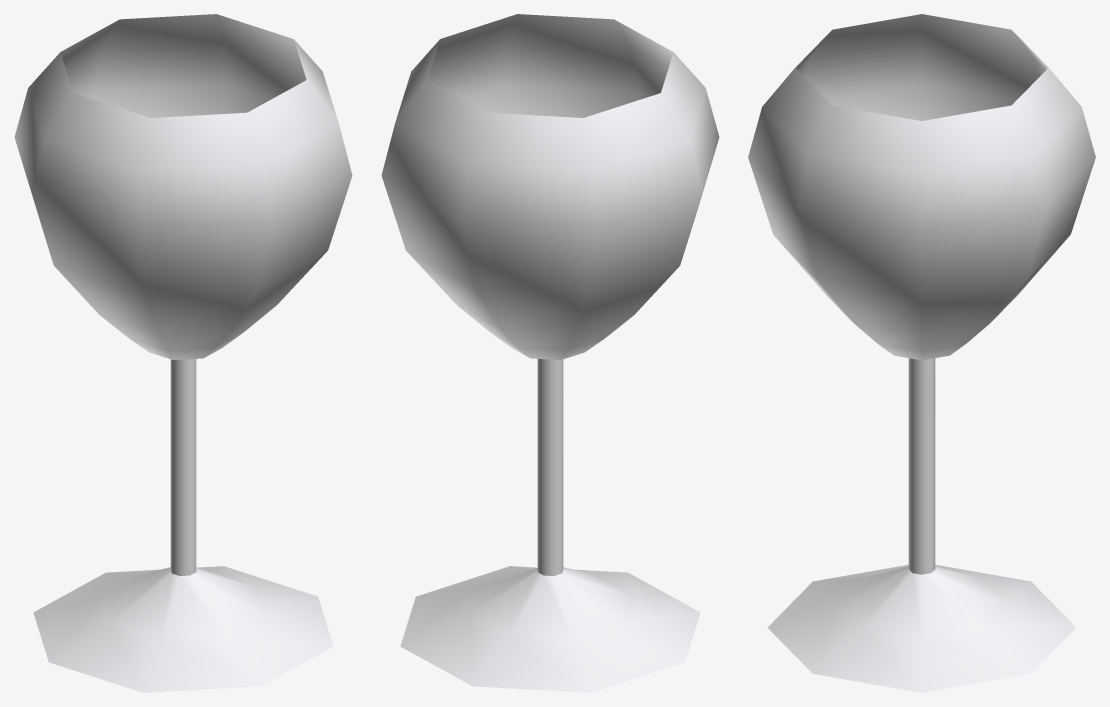
Rendered from Goblet.glb.
3 views of the same model, side by side, from view 1: azimuth 30°, elevation 25°; view 2: azimuth 150°, elevation 25°; view 3: azimuth 270°, elevation 25° (orthographic).
Visible parts, largest first — view 1: sercups_goblet_Cylinder.109; view 2: sercups_goblet_Cylinder.109; view 3: sercups_goblet_Cylinder.109.
Boxes of the visible parts, <box> form: sercups_goblet_Cylinder.109: <box>14,14,352,692</box>; sercups_goblet_Cylinder.109: <box>381,14,719,692</box>; sercups_goblet_Cylinder.109: <box>748,14,1095,692</box>.
Bounding box in the file's own units: 2.25 × 4 × 2.25.
Materials: 1 (1 with a texture image).
